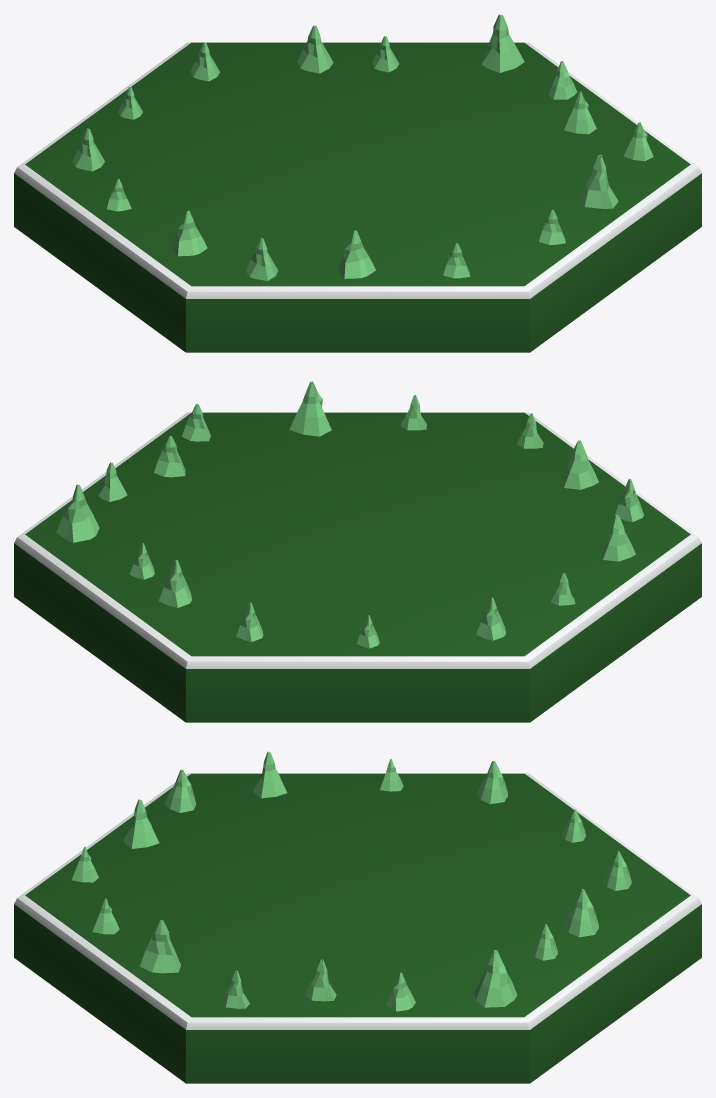
File: Hex_Forest.fbx
3 views of the same model, one above another, from view 1: azimuth 30°, elevation 25°; view 2: azimuth 150°, elevation 25°; view 3: azimuth 270°, elevation 25° (orthographic).
Visible parts, largest first — view 1: Tille.002; view 2: Tille.002; view 3: Tille.002.
Part boxes in pixels (x1=…): Tille.002: x1=14, y1=14, x2=701, y2=352; Tille.002: x1=14, y1=381, x2=701, y2=722; Tille.002: x1=14, y1=751, x2=701, y2=1083.
Size of the model in its own units: 173 by 35.33 by 200.
